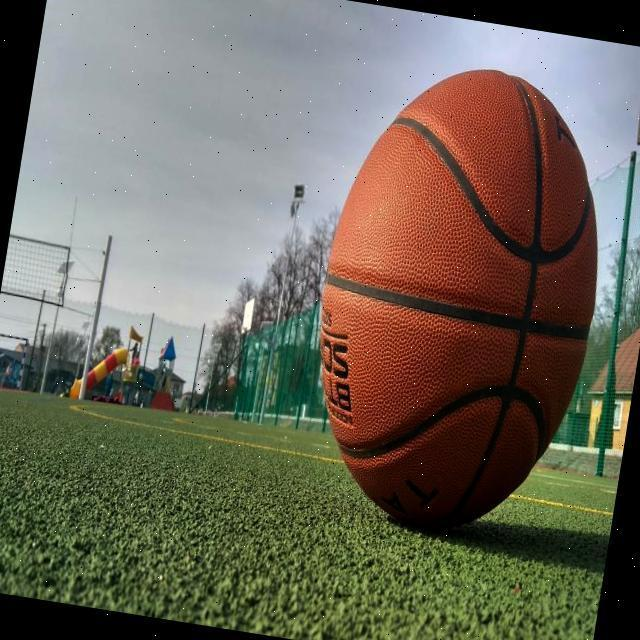ball: (290, 47, 629, 548)
